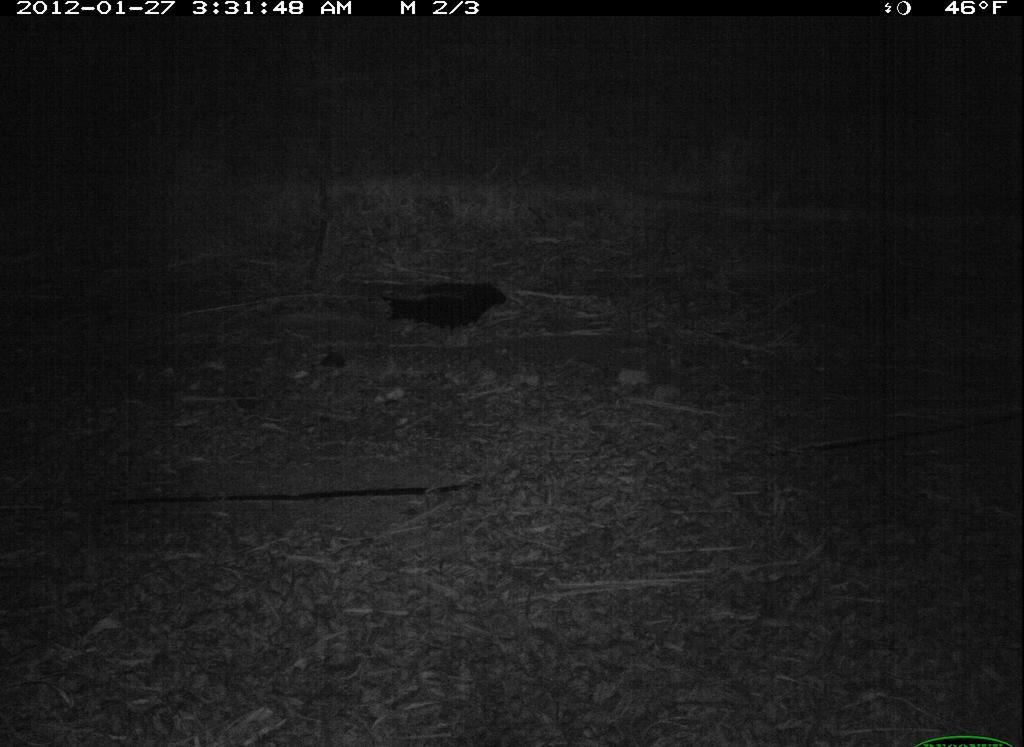coyote: (385, 254, 521, 353)
